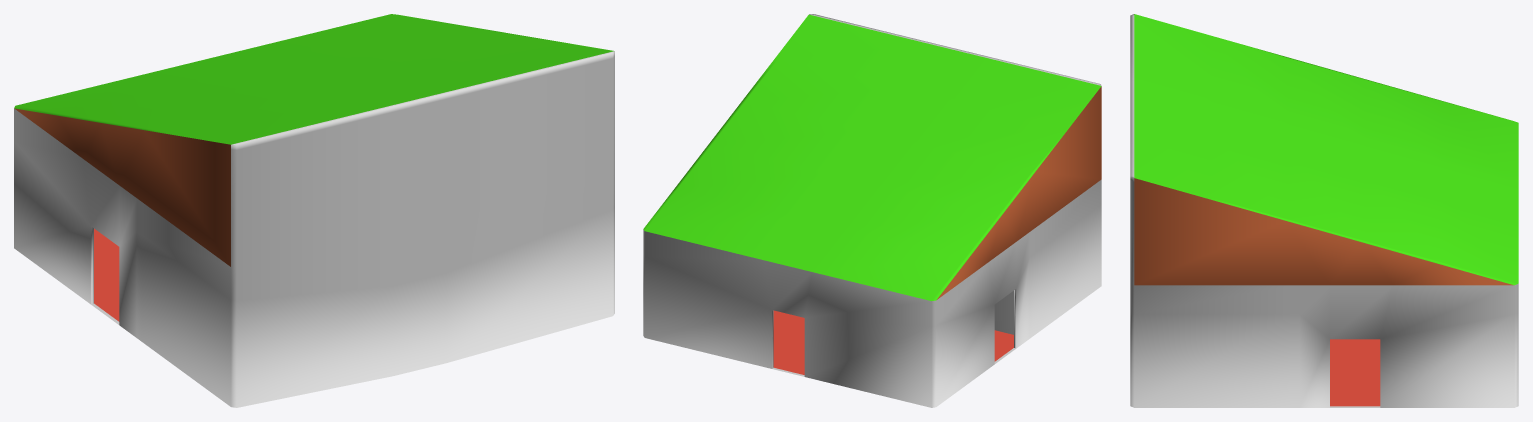
File: spawnhaustex.fbx
3 views of the same model, side by side, from view 1: azimuth 30°, elevation 25°; view 2: azimuth 150°, elevation 25°; view 3: azimuth 270°, elevation 25° (orthographic). The views are drawn at different scales.
Parts seen in each view (by area): view 1: Plane; view 2: Plane; view 3: Plane.
Part boxes in pixels (x1=…): Plane: x1=14, y1=14, x2=614, y2=407; Plane: x1=643, y1=14, x2=1101, y2=407; Plane: x1=1130, y1=14, x2=1518, y2=407.
Size of the model in its own units: 964 by 645 by 964.
